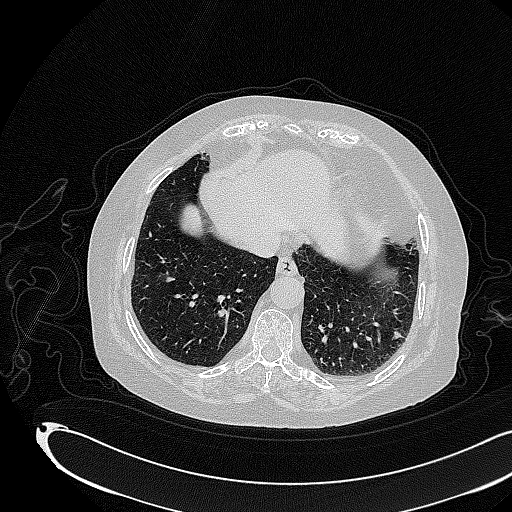nodule: (391, 330, 401, 340)
